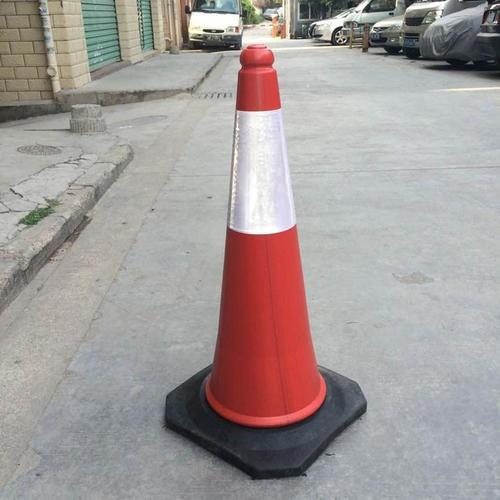cone_barrel: (190, 56, 338, 430)
